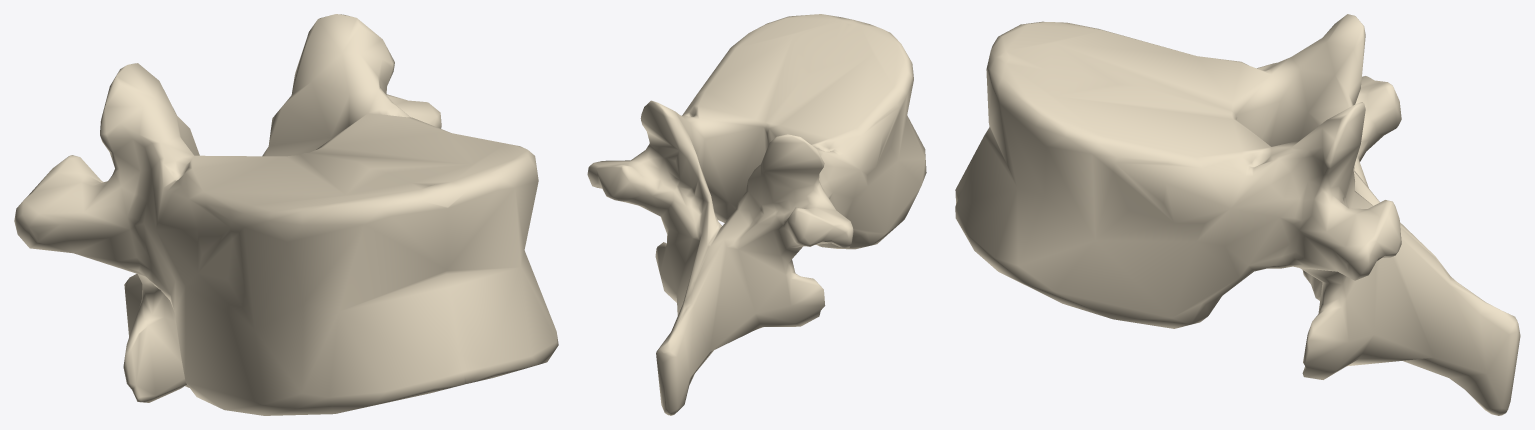
File: vertebra-t11.glb
3 renders of one model, left to right at view 1: azimuth 30°, elevation 25°; view 2: azimuth 150°, elevation 25°; view 3: azimuth 270°, elevation 25°, orthographic. The views are drawn at different scales.
Parts seen in each view (by area): view 1: Vertebra T11; view 2: Vertebra T11; view 3: Vertebra T11.
Boxes of the visible parts, x1=… form: Vertebra T11: x1=14, y1=14, x2=558, y2=415; Vertebra T11: x1=587, y1=14, x2=926, y2=415; Vertebra T11: x1=955, y1=14, x2=1520, y2=415.
Size of the model in its own units: 0.0581 by 0.055 by 0.0786.
